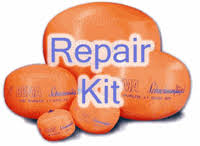buoy: (43, 3, 163, 77), (94, 53, 193, 119), (5, 67, 77, 114), (71, 98, 118, 135), (38, 111, 76, 141)
